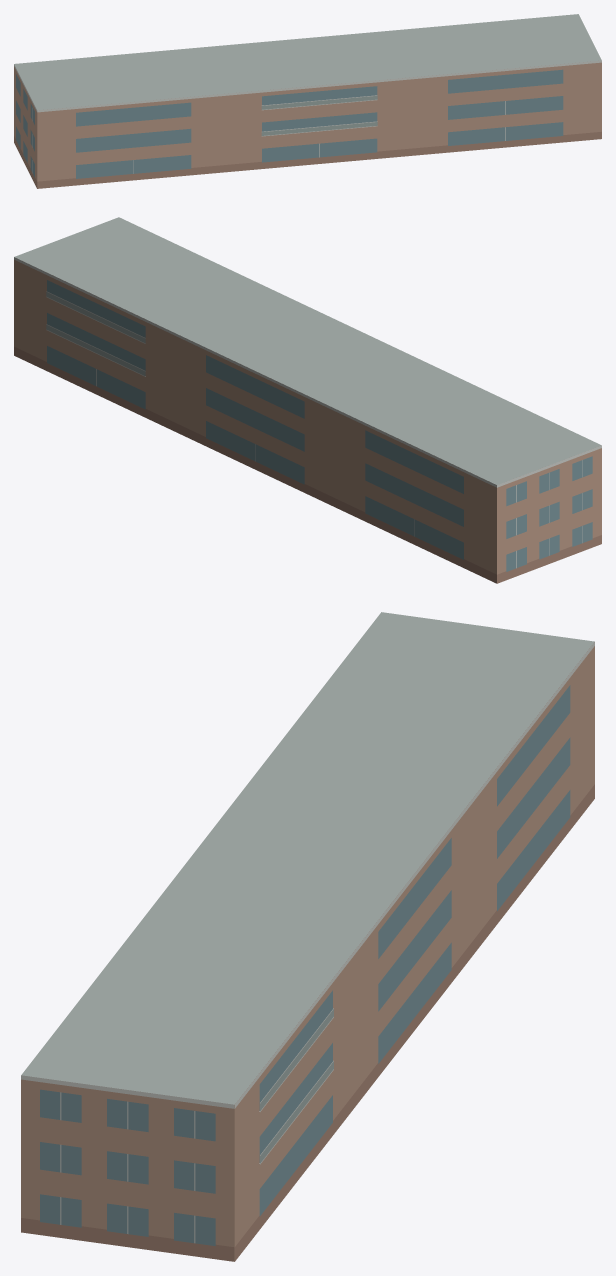
Rendered from survey-upis-32676477.glb.
3 renders of one model, top to bottom at view 1: azimuth 30°, elevation 25°; view 2: azimuth 150°, elevation 25°; view 3: azimuth 270°, elevation 25°, orthographic. The views are drawn at different scales.
Parts seen in each view (by area): view 1: survey-upis-32676477.tmp; view 2: survey-upis-32676477.tmp; view 3: survey-upis-32676477.tmp.
Boxes of the visible parts, x1,y1,x2,y2 form: survey-upis-32676477.tmp: [14, 14, 601, 188]; survey-upis-32676477.tmp: [14, 217, 601, 583]; survey-upis-32676477.tmp: [21, 612, 594, 1261].
Bounding box in the file's own units: 61.54 × 9.15 × 30.29.
